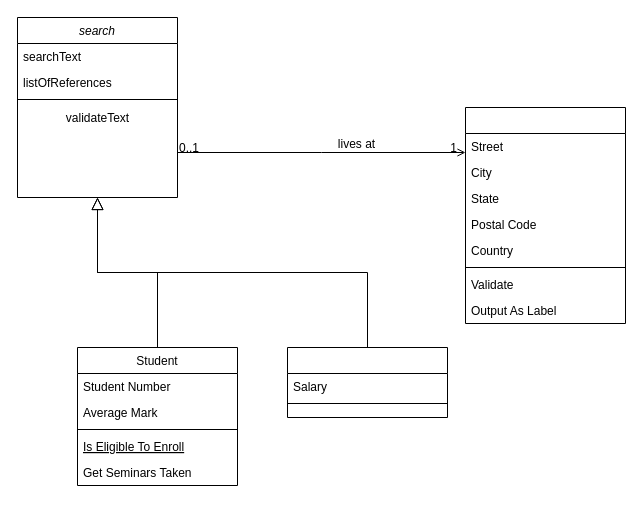
This 643x506 diagram has some shape labels left out. The shapes that lost their labels are listed below. From the top down, each one's box as (x1, y1, x2, y2) in pixels, then its label:
(464, 106, 626, 324): Address
(286, 346, 448, 418): Professor
